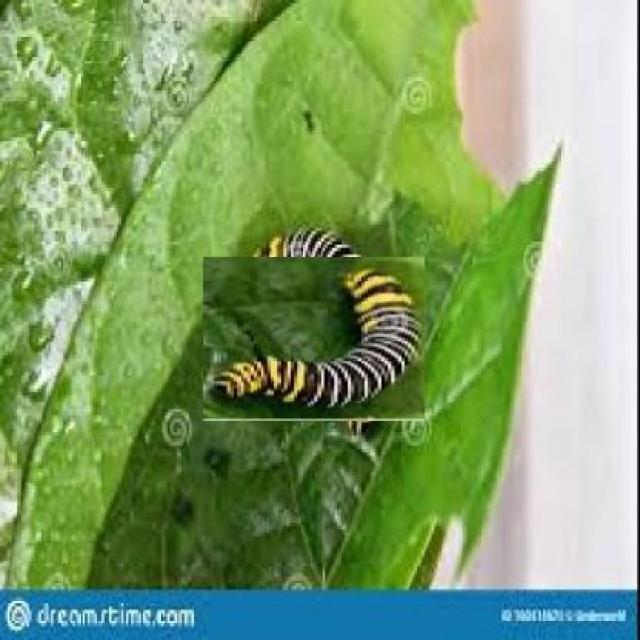Plaga: (217, 240, 411, 436)
